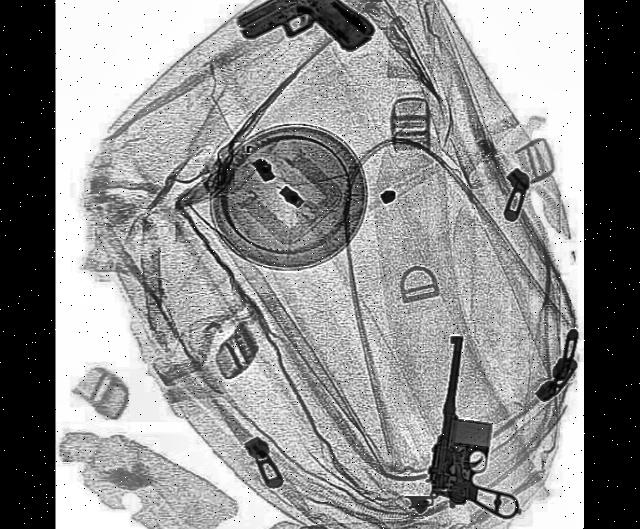Gun: (424, 334, 540, 525), (236, 0, 377, 100)
